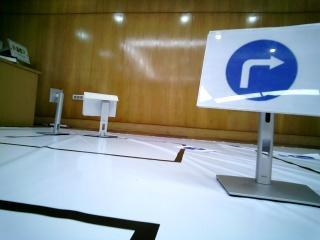right: (208, 31, 305, 110)
